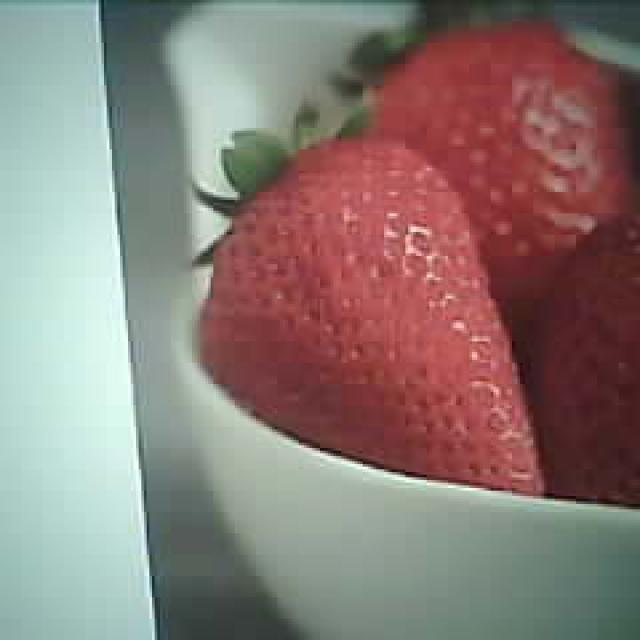strawberry: (203, 140, 545, 494)
